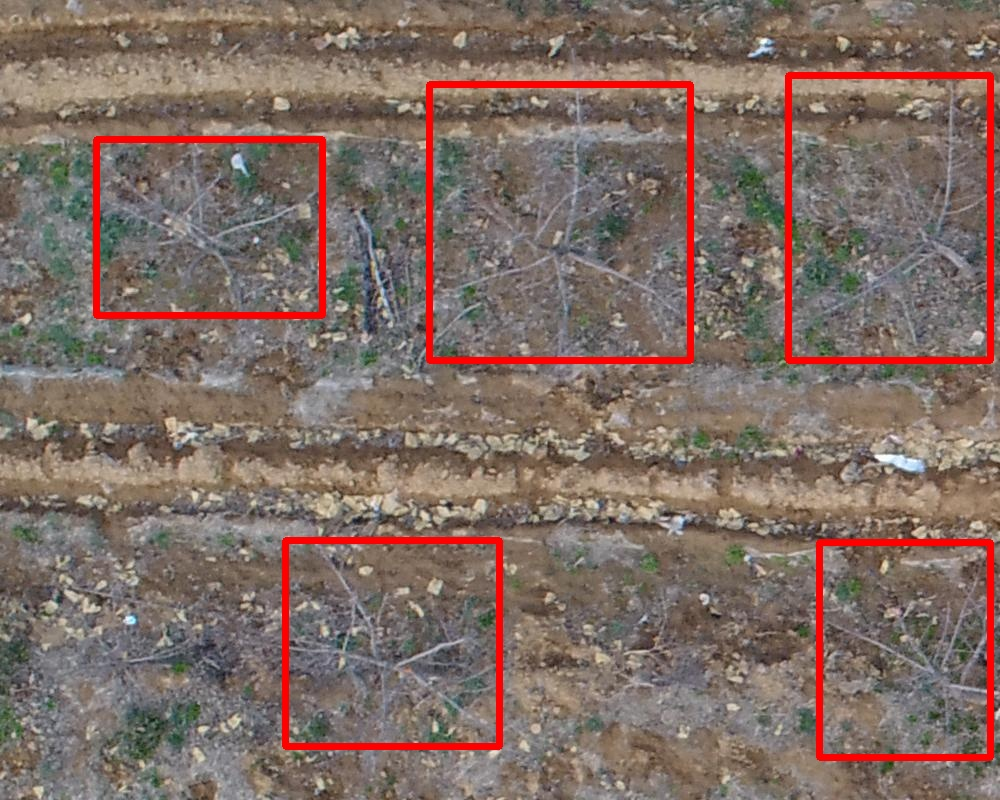apple: (429, 84, 690, 360), (788, 75, 990, 360), (285, 540, 499, 746), (96, 139, 322, 315), (819, 542, 990, 757)
